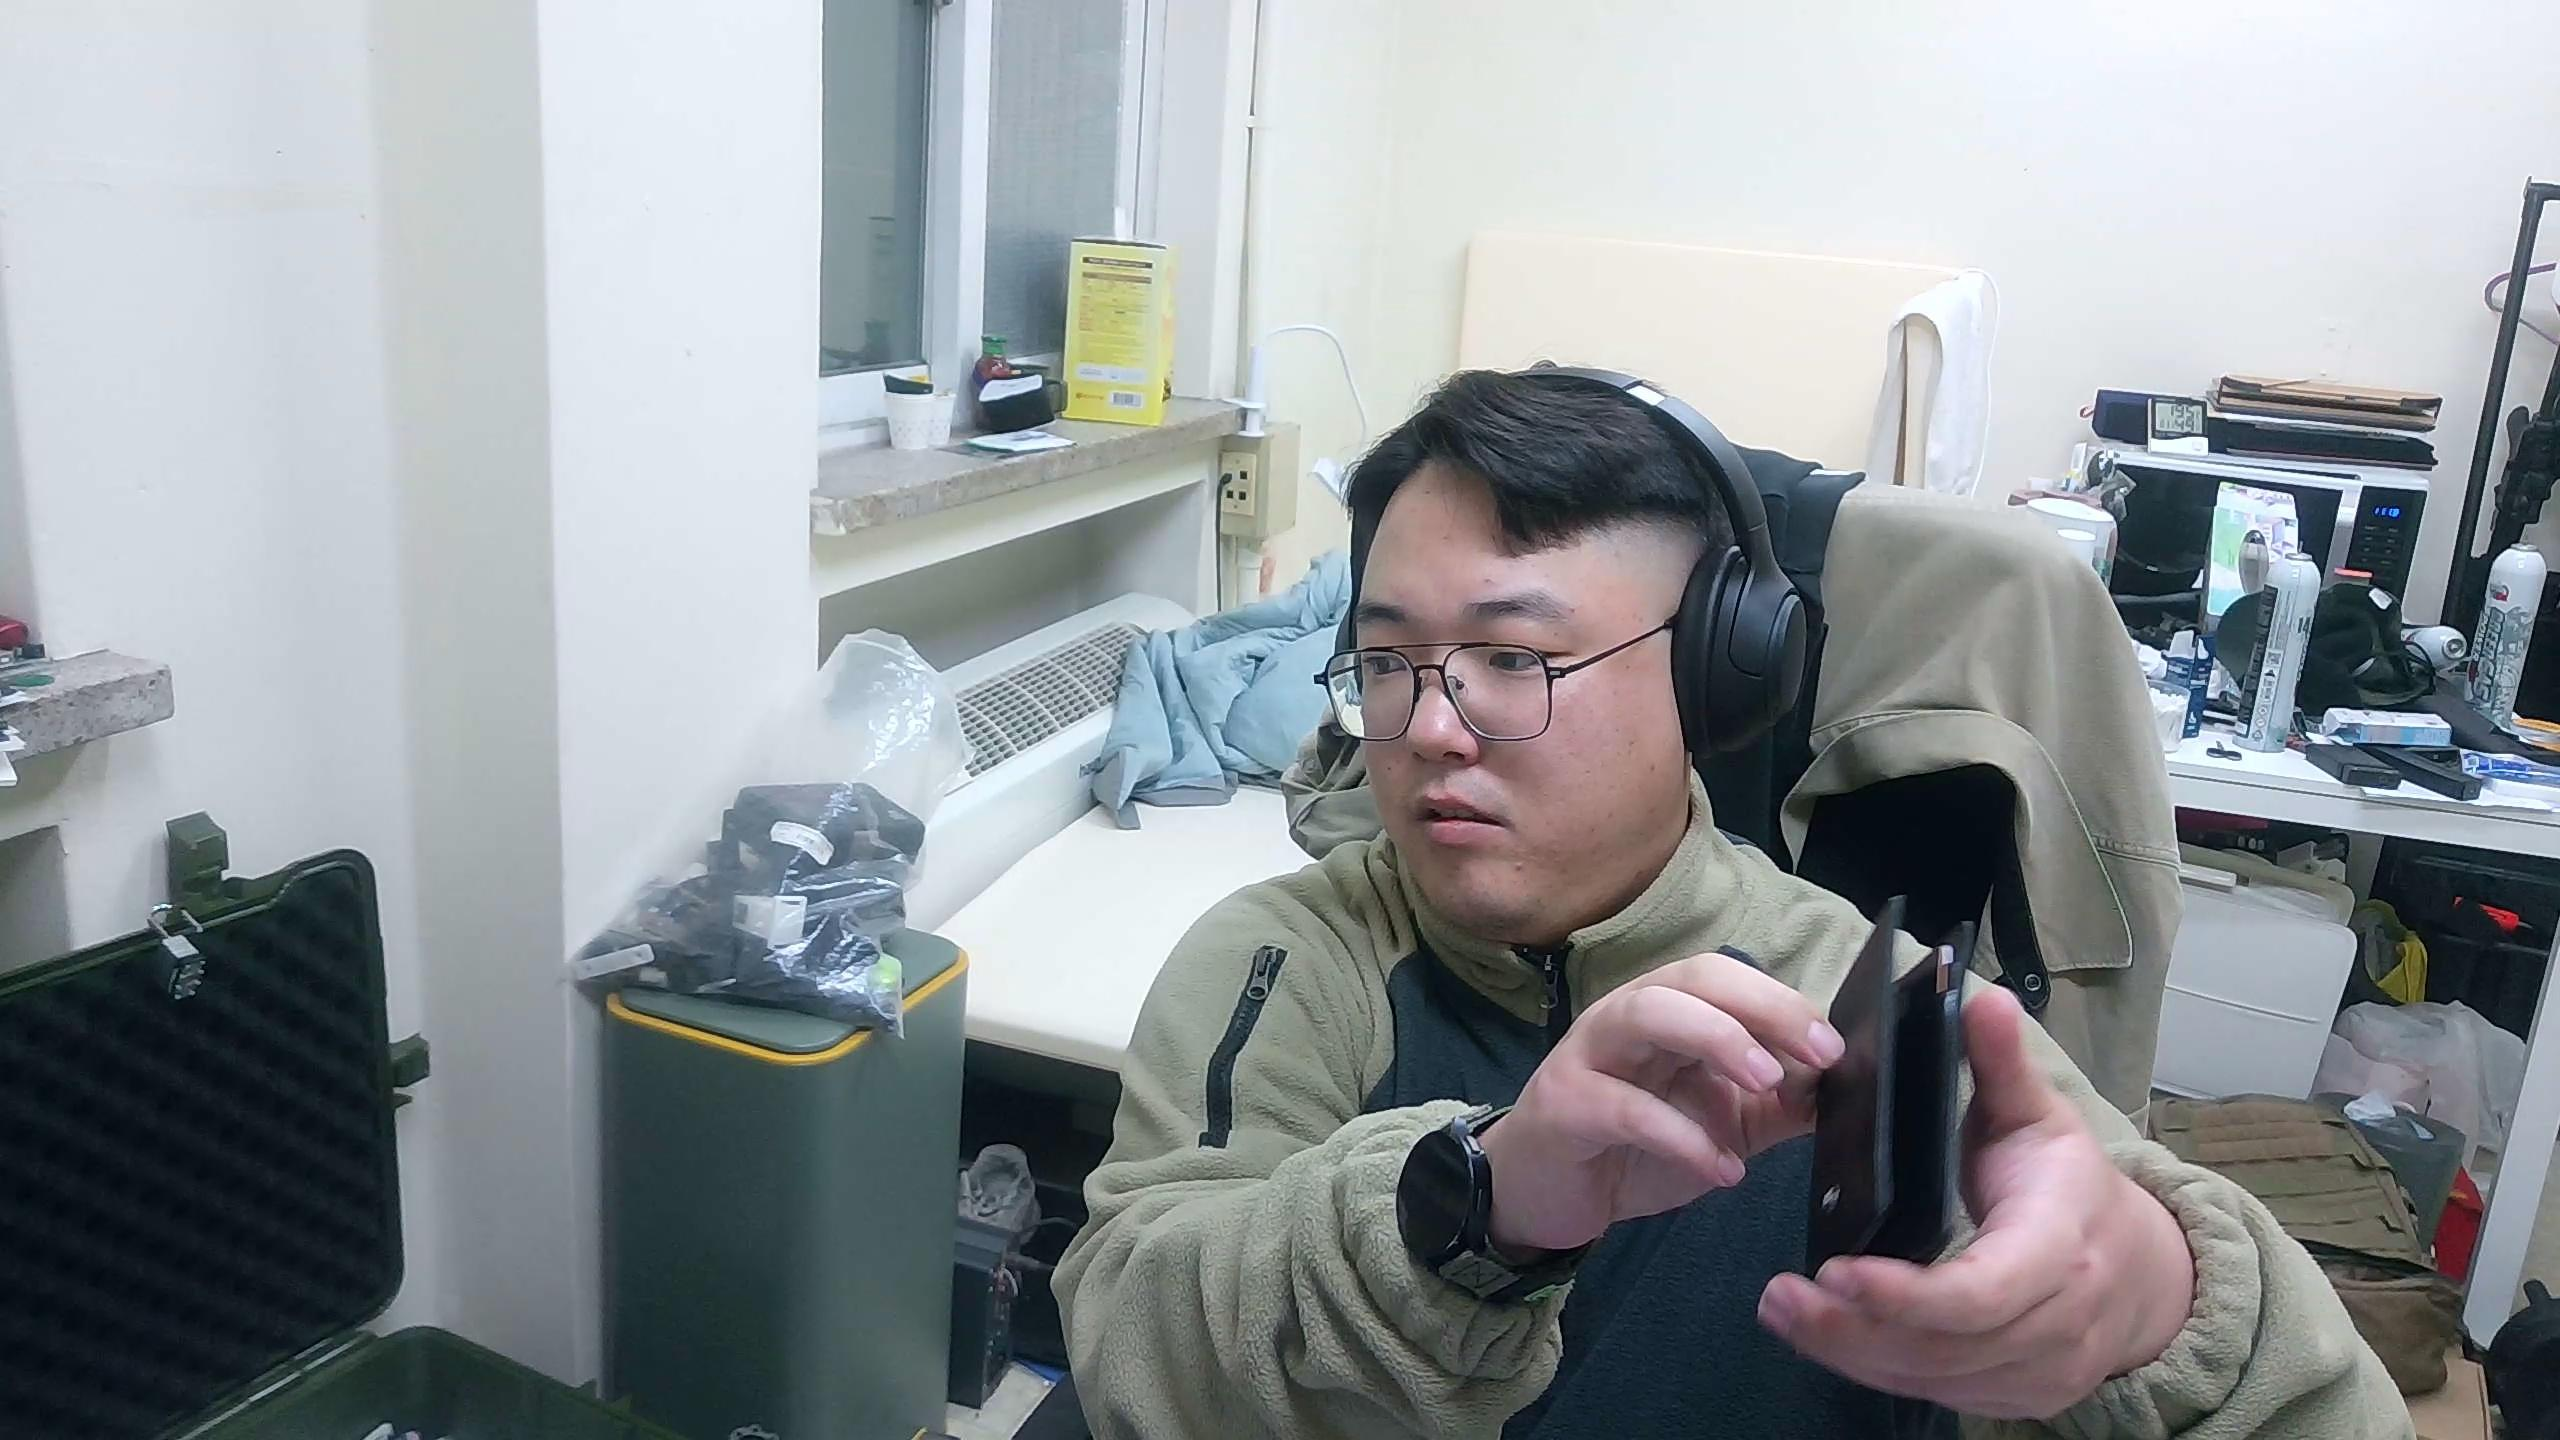Wallet: (1804, 891, 1980, 1282)
